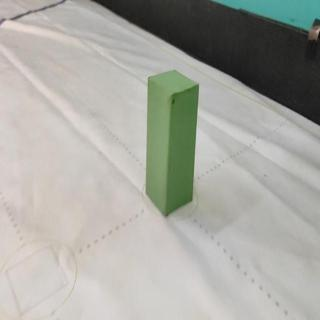greenbox: (147, 67, 200, 218)
